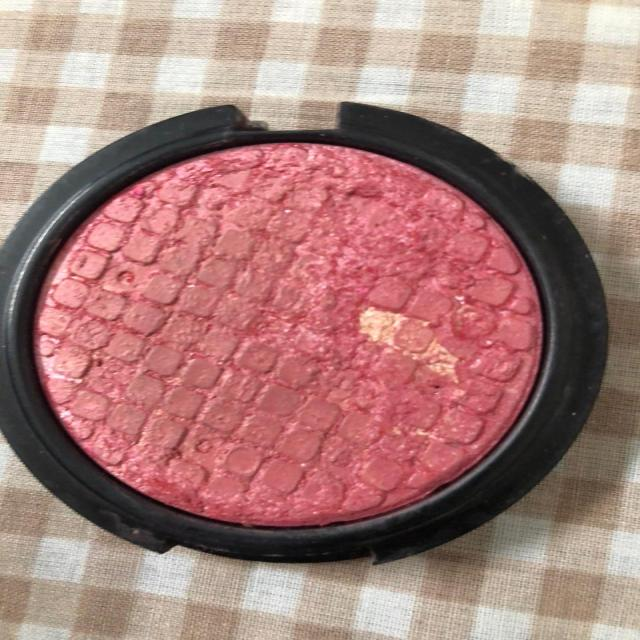blush: (16, 111, 564, 564)
